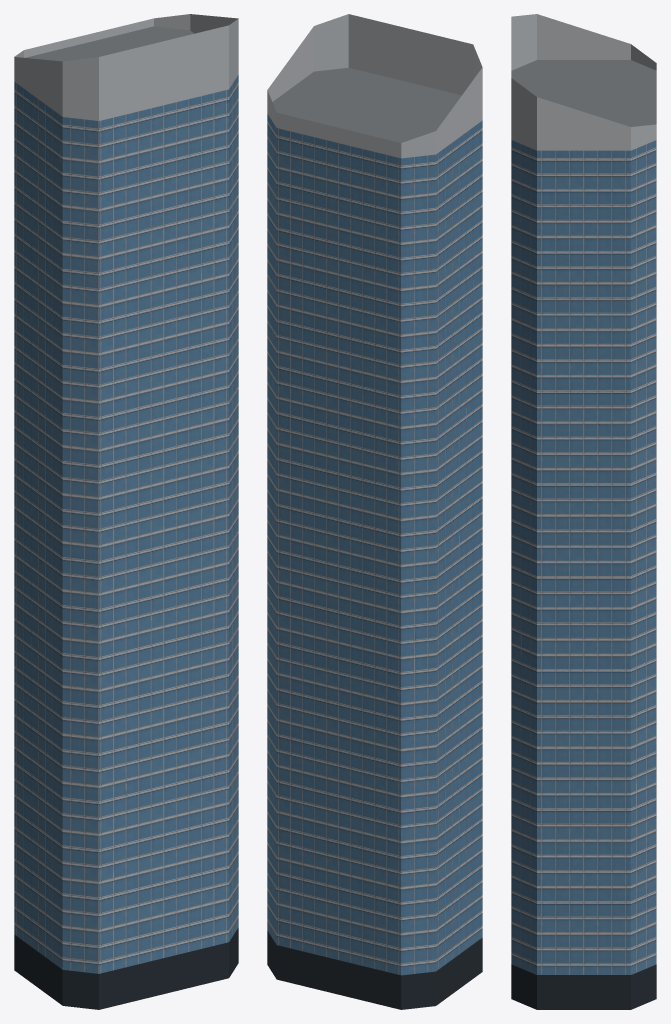
Rendered from gen_tall_glass_office.glb.
3 renders of one model, left to right at view 1: azimuth 30°, elevation 25°; view 2: azimuth 150°, elevation 25°; view 3: azimuth 270°, elevation 25°, orthographic. The views are drawn at different scales.
Parts seen in each view (by area): view 1: gen_tall_glass_office; view 2: gen_tall_glass_office; view 3: gen_tall_glass_office.
Boxes of the visible parts, x1,y1,x2,y2 form: gen_tall_glass_office: (14, 14, 238, 1009); gen_tall_glass_office: (267, 14, 482, 1009); gen_tall_glass_office: (511, 14, 656, 1009).
Bounding box in the file's own units: 46 × 238 × 34.
Materials: 2 (2 with a texture image).
